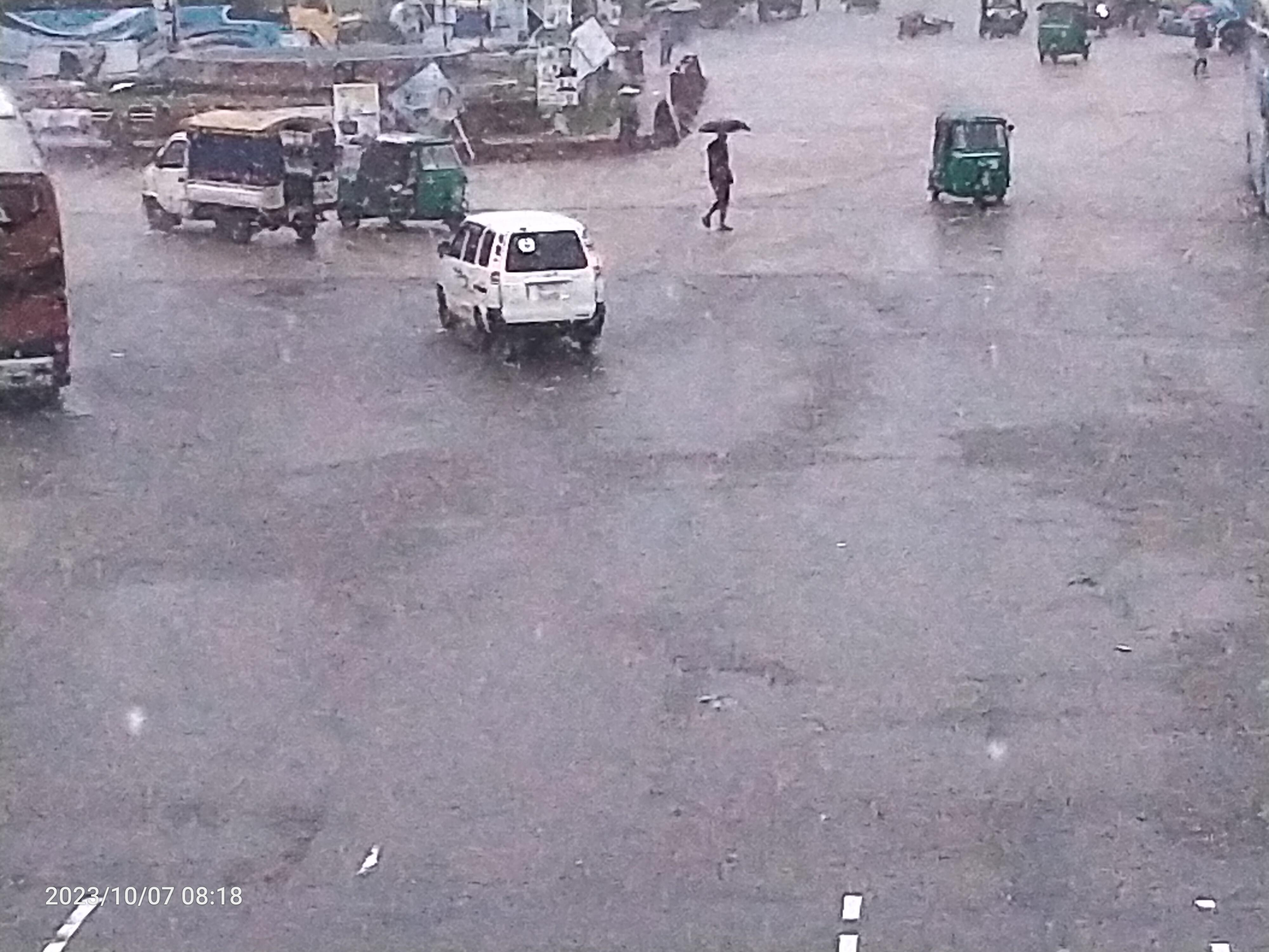Bus: (0, 80, 107, 452), (0, 0, 183, 116)
Car: (115, 80, 345, 252), (422, 196, 618, 378)
